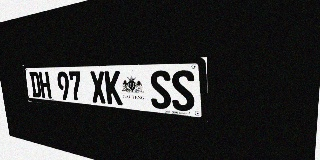7: (68, 71, 83, 102)
9: (56, 71, 71, 100)
D: (29, 72, 42, 98)
H: (38, 72, 52, 99)
K: (104, 71, 123, 105)
S: (171, 70, 195, 112), (149, 70, 172, 110)
X: (90, 71, 107, 104)
